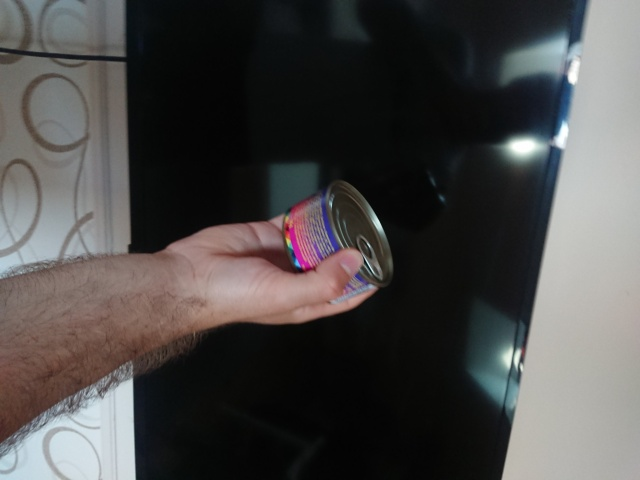Giana Tuna Salad Mexico 185g: (280, 176, 396, 309)
